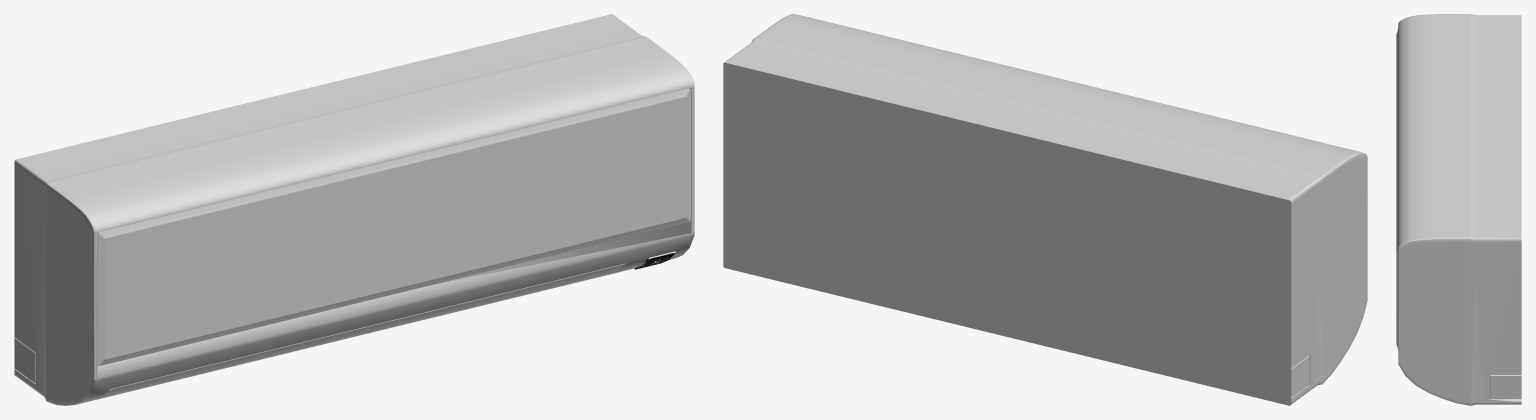
Rendered from air_conditioner.glb.
The picture shows the model from 3 angles, left to right: view 1: azimuth 30°, elevation 25°; view 2: azimuth 150°, elevation 25°; view 3: azimuth 270°, elevation 25°; orthographic projection. The views are drawn at different scales.
Parts seen in each view (by area): view 1: Conditioner; view 2: Shape001, Conditioner; view 3: Conditioner.
Boxes of the visible parts, x1,y1,x2,y2 form: Conditioner: (14, 14, 694, 405); Shape001: (723, 62, 1291, 405); Conditioner: (724, 14, 1367, 403); Conditioner: (1396, 14, 1521, 405).
Size of the model in its own units: 0.82 by 0.285 by 0.1928.
Materials: 2 (1 with a texture image).
